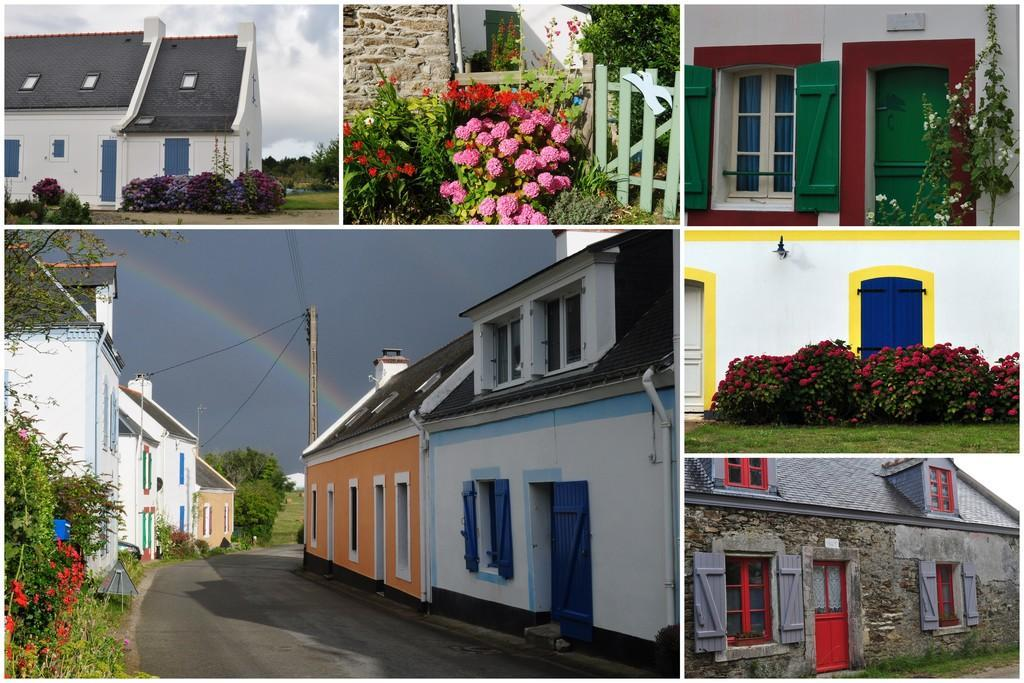door: (876, 83, 951, 232), (550, 482, 594, 636), (819, 570, 845, 667), (166, 138, 190, 182), (105, 141, 120, 206)
handle: (876, 156, 950, 175)
